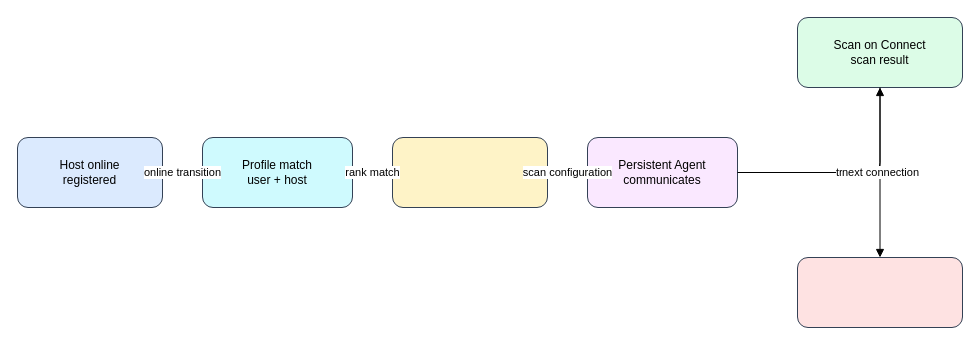
The diagram is 980 pixels wide and 345 high, and some of its shapes have lost their labels. Each missing label, with the centre of its shape:
Compliance policy select config: pixel 470 172
Disconnect re-arm state: pixel 879 292
